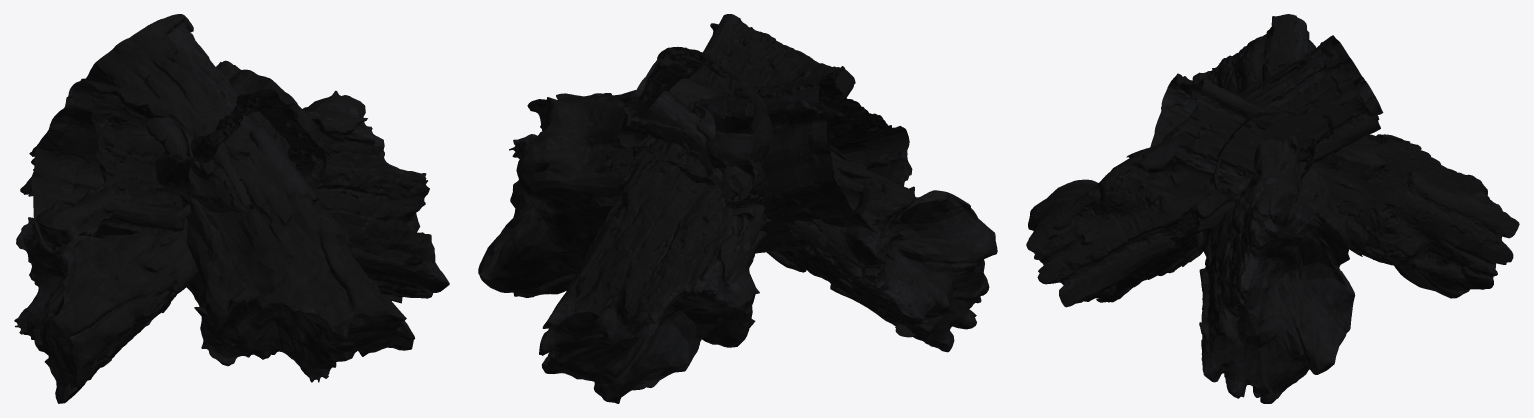
Rendered from model_web.glb.
3 renders of one model, left to right at view 1: azimuth 30°, elevation 25°; view 2: azimuth 150°, elevation 25°; view 3: azimuth 270°, elevation 25°, orthographic. The views are drawn at different scales.
Parts seen in each view (by area): view 1: 04_carbon_support, 01_carbon_base, 03_carbon_diagonal, 02_carbon_cross; view 2: 02_carbon_cross, 01_carbon_base, 03_carbon_diagonal, 04_carbon_support; view 3: 01_carbon_base, 04_carbon_support, 02_carbon_cross, 03_carbon_diagonal.
Part boxes in pixels (left/top/right/bottom): 04_carbon_support: left=86, top=14, right=414, bottom=382; 01_carbon_base: left=31, top=78, right=449, bottom=303; 03_carbon_diagonal: left=14, top=60, right=330, bottom=403; 02_carbon_cross: left=20, top=88, right=326, bottom=218; 02_carbon_cross: left=539, top=14, right=855, bottom=403; 01_carbon_base: left=478, top=72, right=912, bottom=297; 03_carbon_diagonal: left=615, top=59, right=997, bottom=352; 04_carbon_support: left=619, top=47, right=772, bottom=208; 01_carbon_base: left=1192, top=14, right=1355, bottom=403; 04_carbon_support: left=1026, top=35, right=1383, bottom=307; 02_carbon_cross: left=1150, top=73, right=1519, bottom=298; 03_carbon_diagonal: left=1210, top=108, right=1334, bottom=203.
Size of the model in its own units: 1.86 by 1.29 by 2.09.
Materials: 1 (1 with a texture image).
